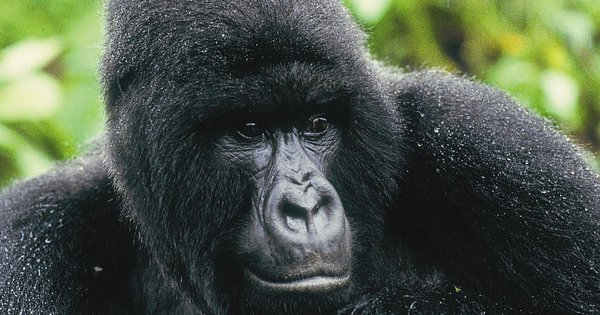Goriila: (76, 7, 501, 315)
